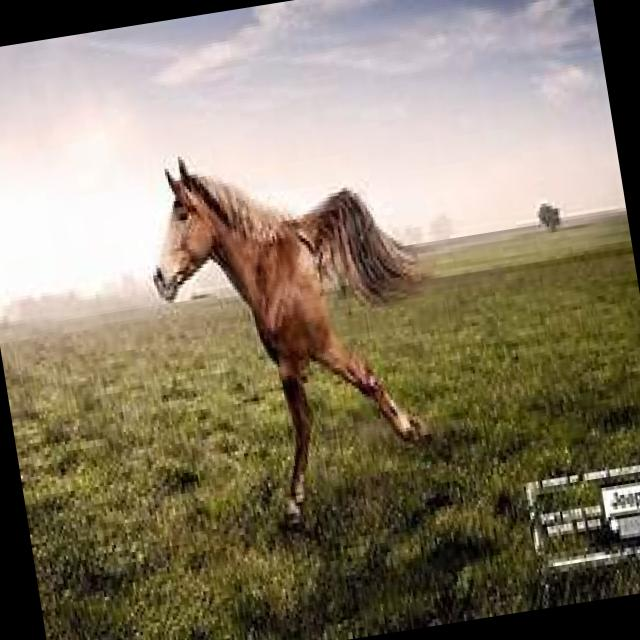animal: (133, 117, 472, 546)
